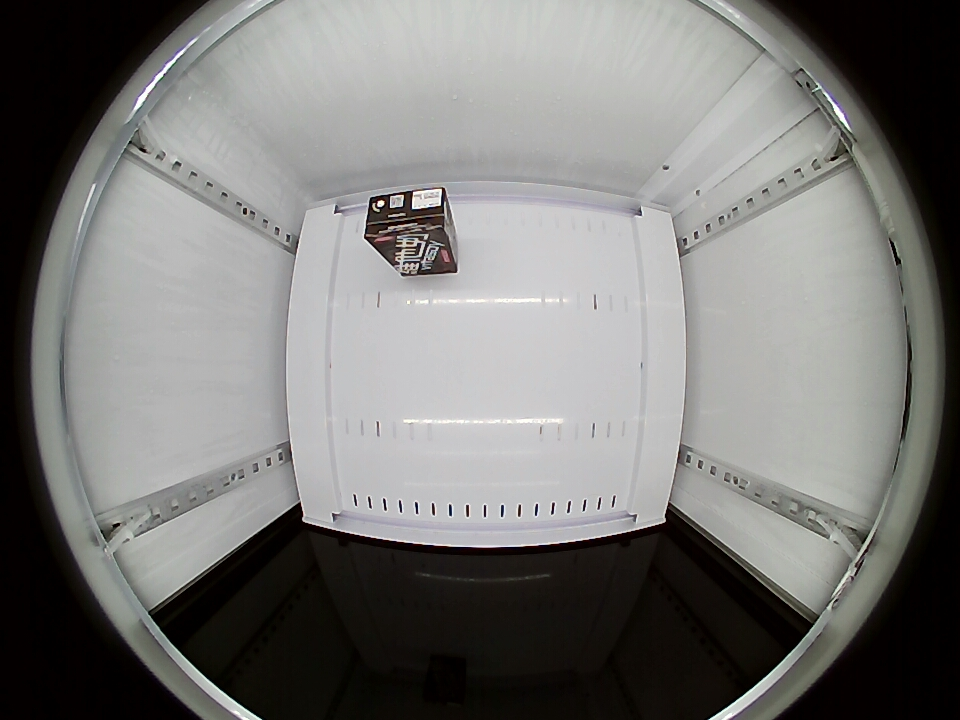weitanai2: (363, 187, 452, 249)
